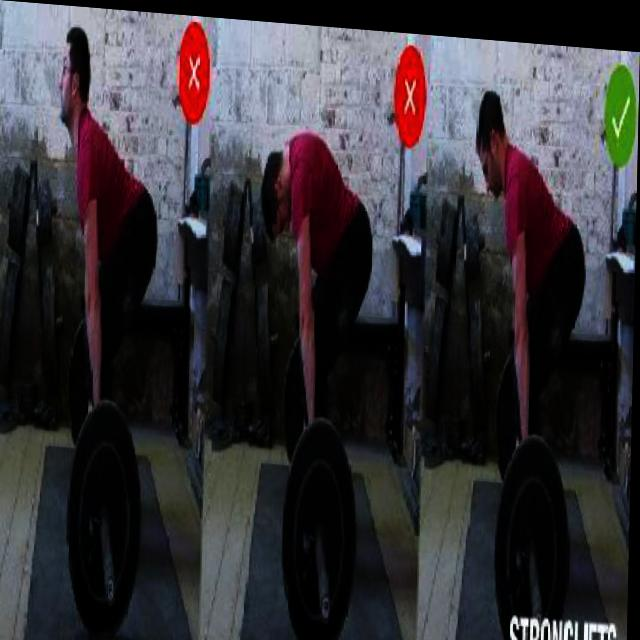barbell: (55, 393, 156, 640), (272, 407, 369, 640)
